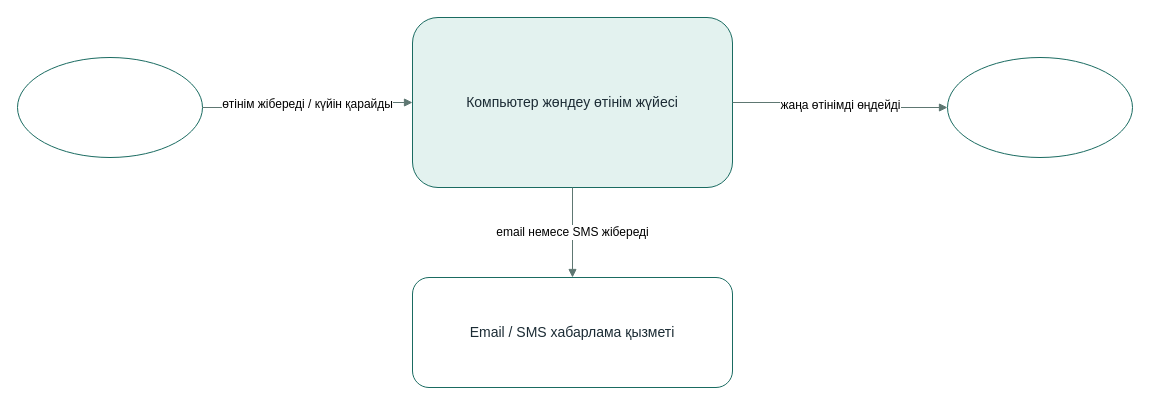
This 1150x405 diagram has some shape labels left out. The centre of each missing label's shape, as x and y in pixels:
"Клиент" goes at pixel 109 107.
"Шебер" goes at pixel 1039 107.
